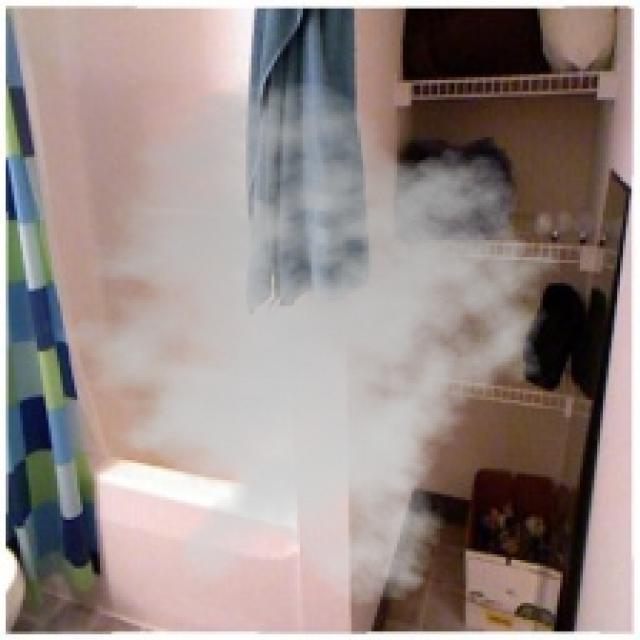smoke: (32, 80, 574, 609)
